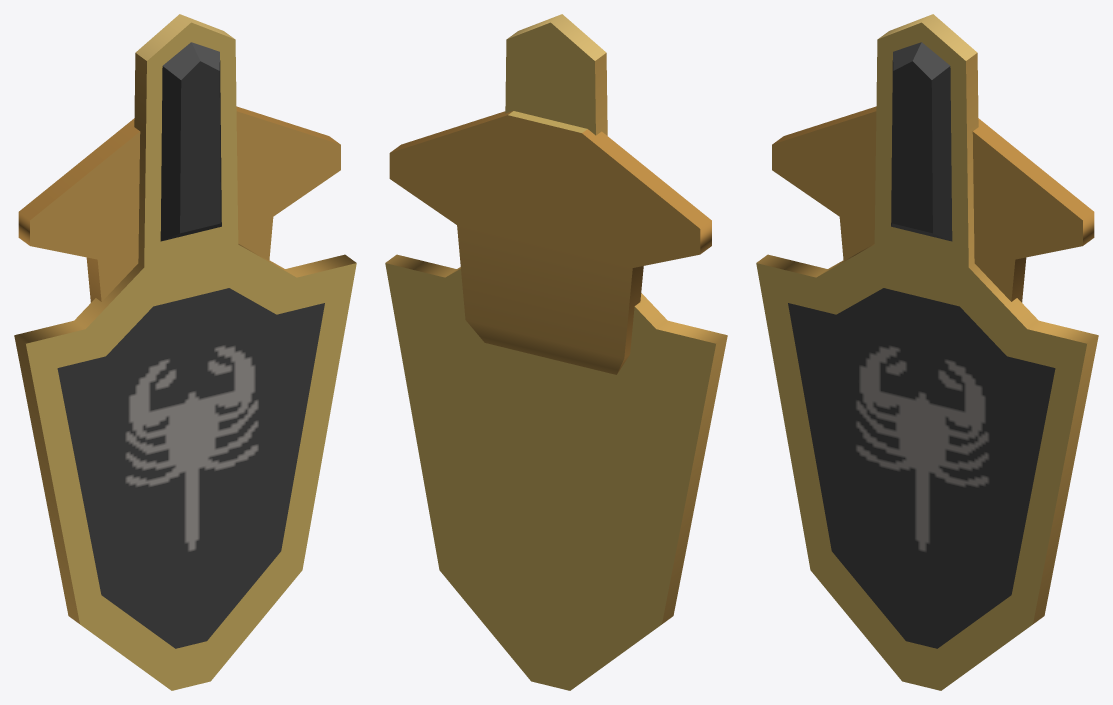
The model's file is SF_Wep_Elven_Sheild_06.fbx.
3 views of the same model, side by side, from view 1: azimuth 30°, elevation 25°; view 2: azimuth 150°, elevation 25°; view 3: azimuth 330°, elevation 25° (orthographic).
Visible parts, largest first — view 1: SF_Wep_Elven_Sheild_06; view 2: SF_Wep_Elven_Sheild_06; view 3: SF_Wep_Elven_Sheild_06.
Boxes of the visible parts, x1,y1,x2,y2 form: SF_Wep_Elven_Sheild_06: [14, 14, 356, 690]; SF_Wep_Elven_Sheild_06: [385, 14, 727, 690]; SF_Wep_Elven_Sheild_06: [756, 14, 1098, 690].
Size of the model in its own units: 0.7938 by 1.52 by 0.1102.
